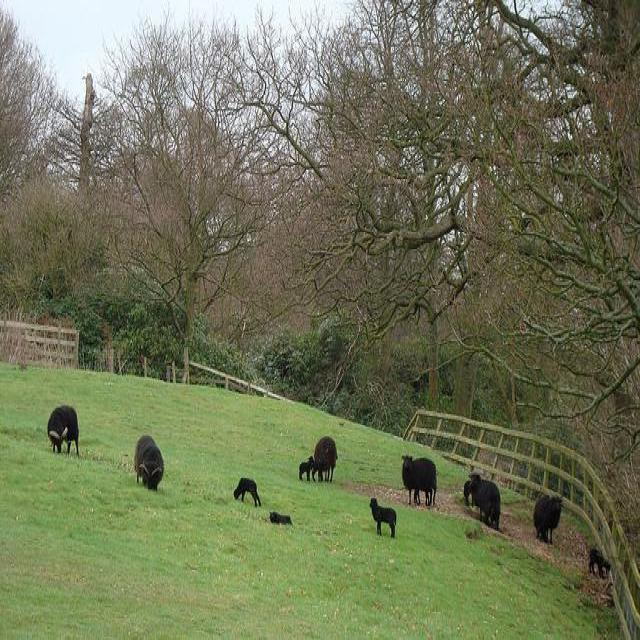Sheep: (464, 472, 501, 531), (401, 453, 437, 509)
